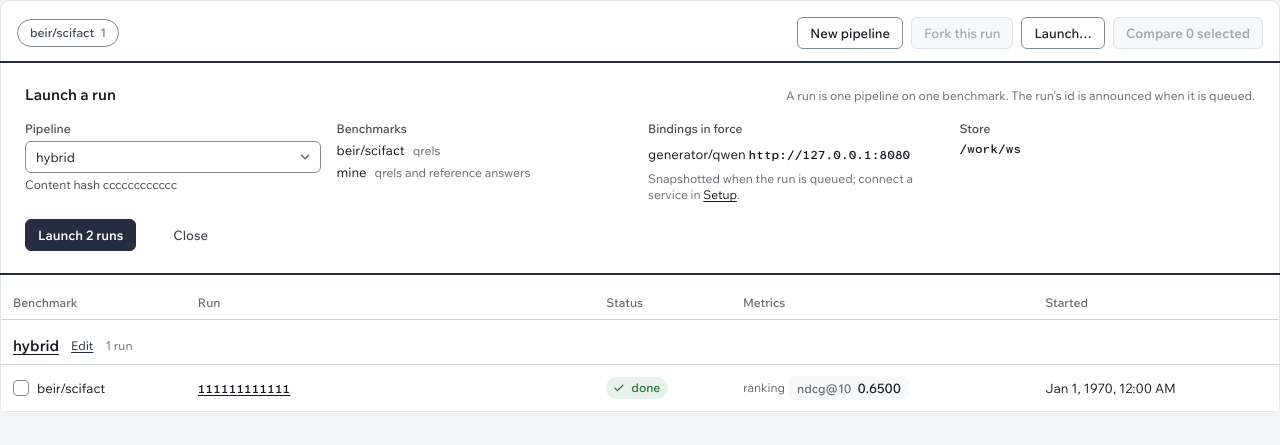
Test: the launch panel on several benchmarks › is busy while the runs are sent, locks the pipeline, and says closing does not stop them
Click the button "Launch 2 runs".
click(81, 235)  # box x1=25 y1=219 x2=136 y2=251
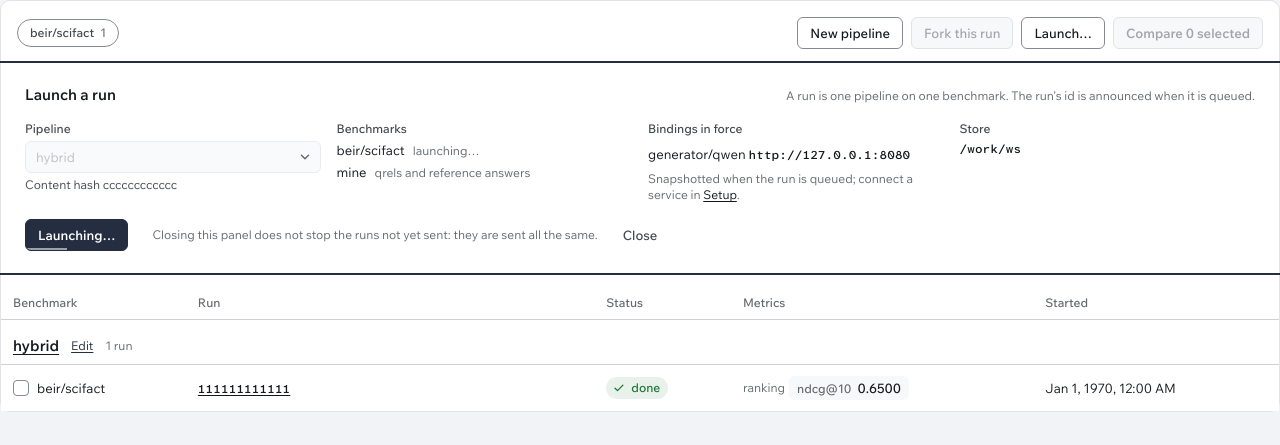
Expected: the dropdown labelled "Pipeline" is disabled, x1=25 y1=141 x2=320 y2=173
Expected: the text "Closing this panel does not stop the runs not yet sent: they are sent all the same." is shown, x1=152 y1=227 x2=598 y2=242
// A second press sends nothing more.
Click the button "Launching…".
click(77, 235)  # box x1=25 y1=219 x2=128 y2=251
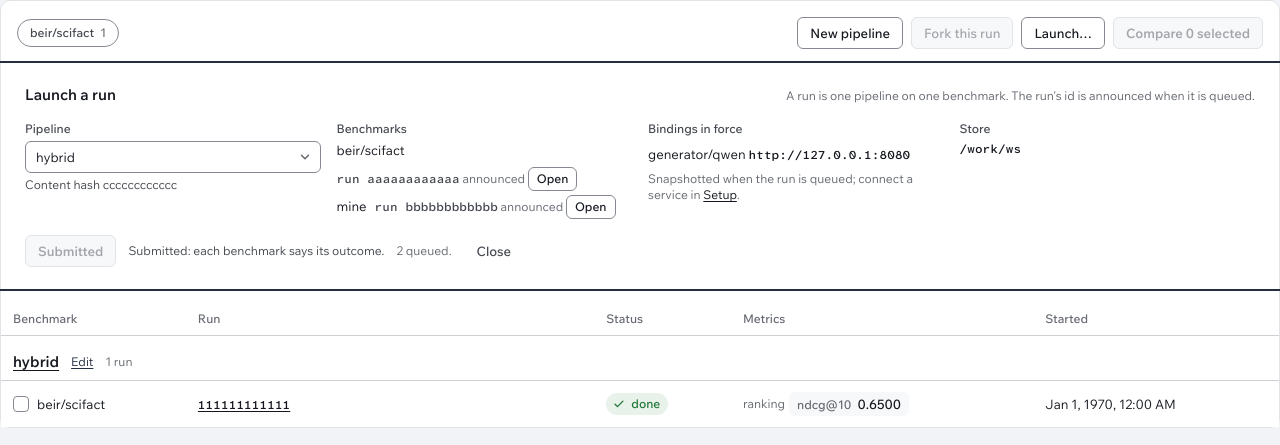
Expected: the text "2 queued." is shown, x1=396 y1=243 x2=452 y2=259
Expected: the dropdown labelled "Pipeline" is enabled, x1=25 y1=141 x2=320 y2=173
